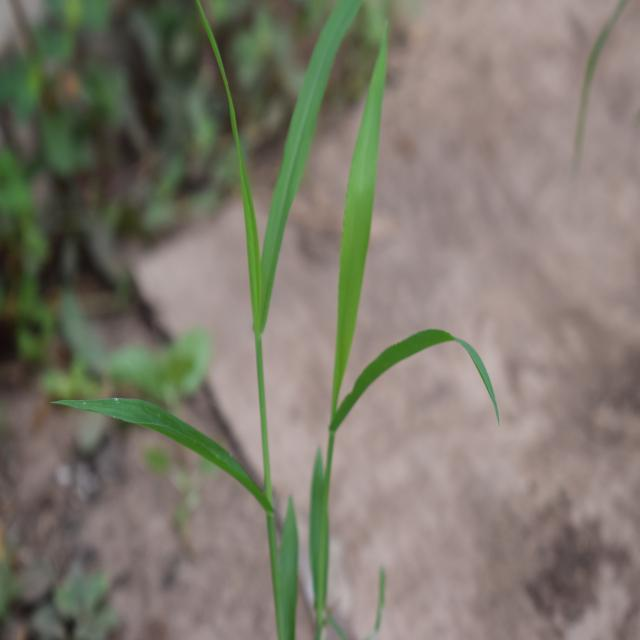crabgrass: (127, 9, 440, 568)
